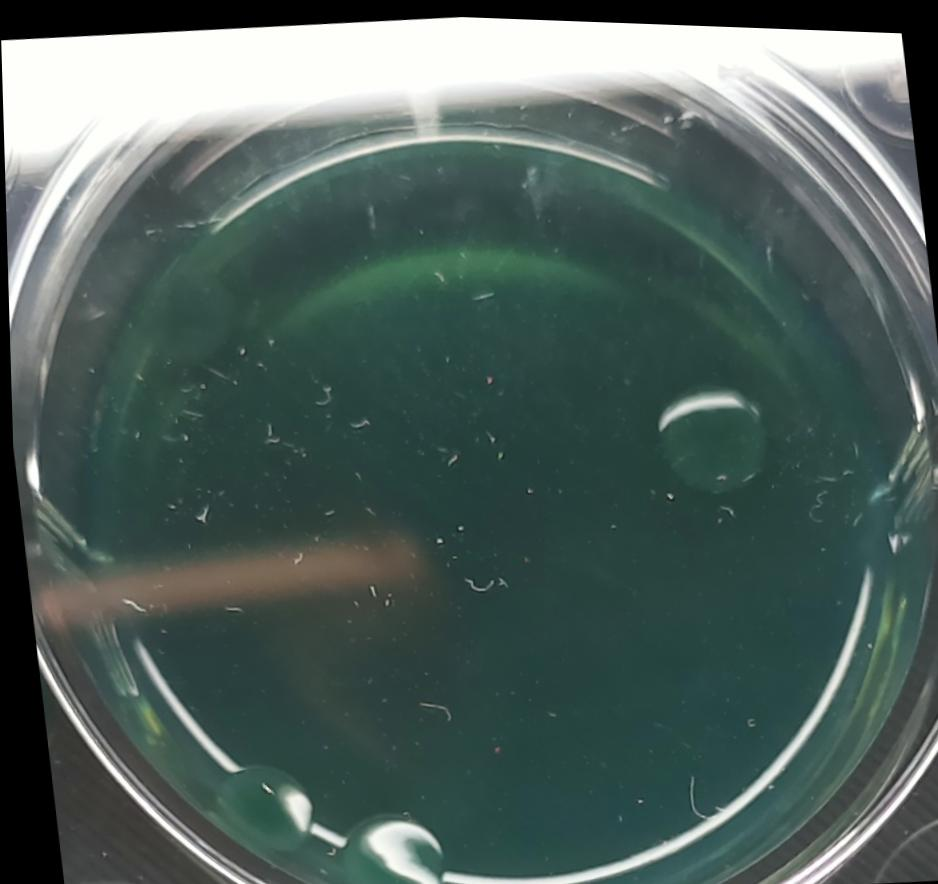vproteolyticus: (635, 365, 780, 504), (196, 742, 315, 860), (134, 256, 246, 380), (323, 795, 463, 884)
